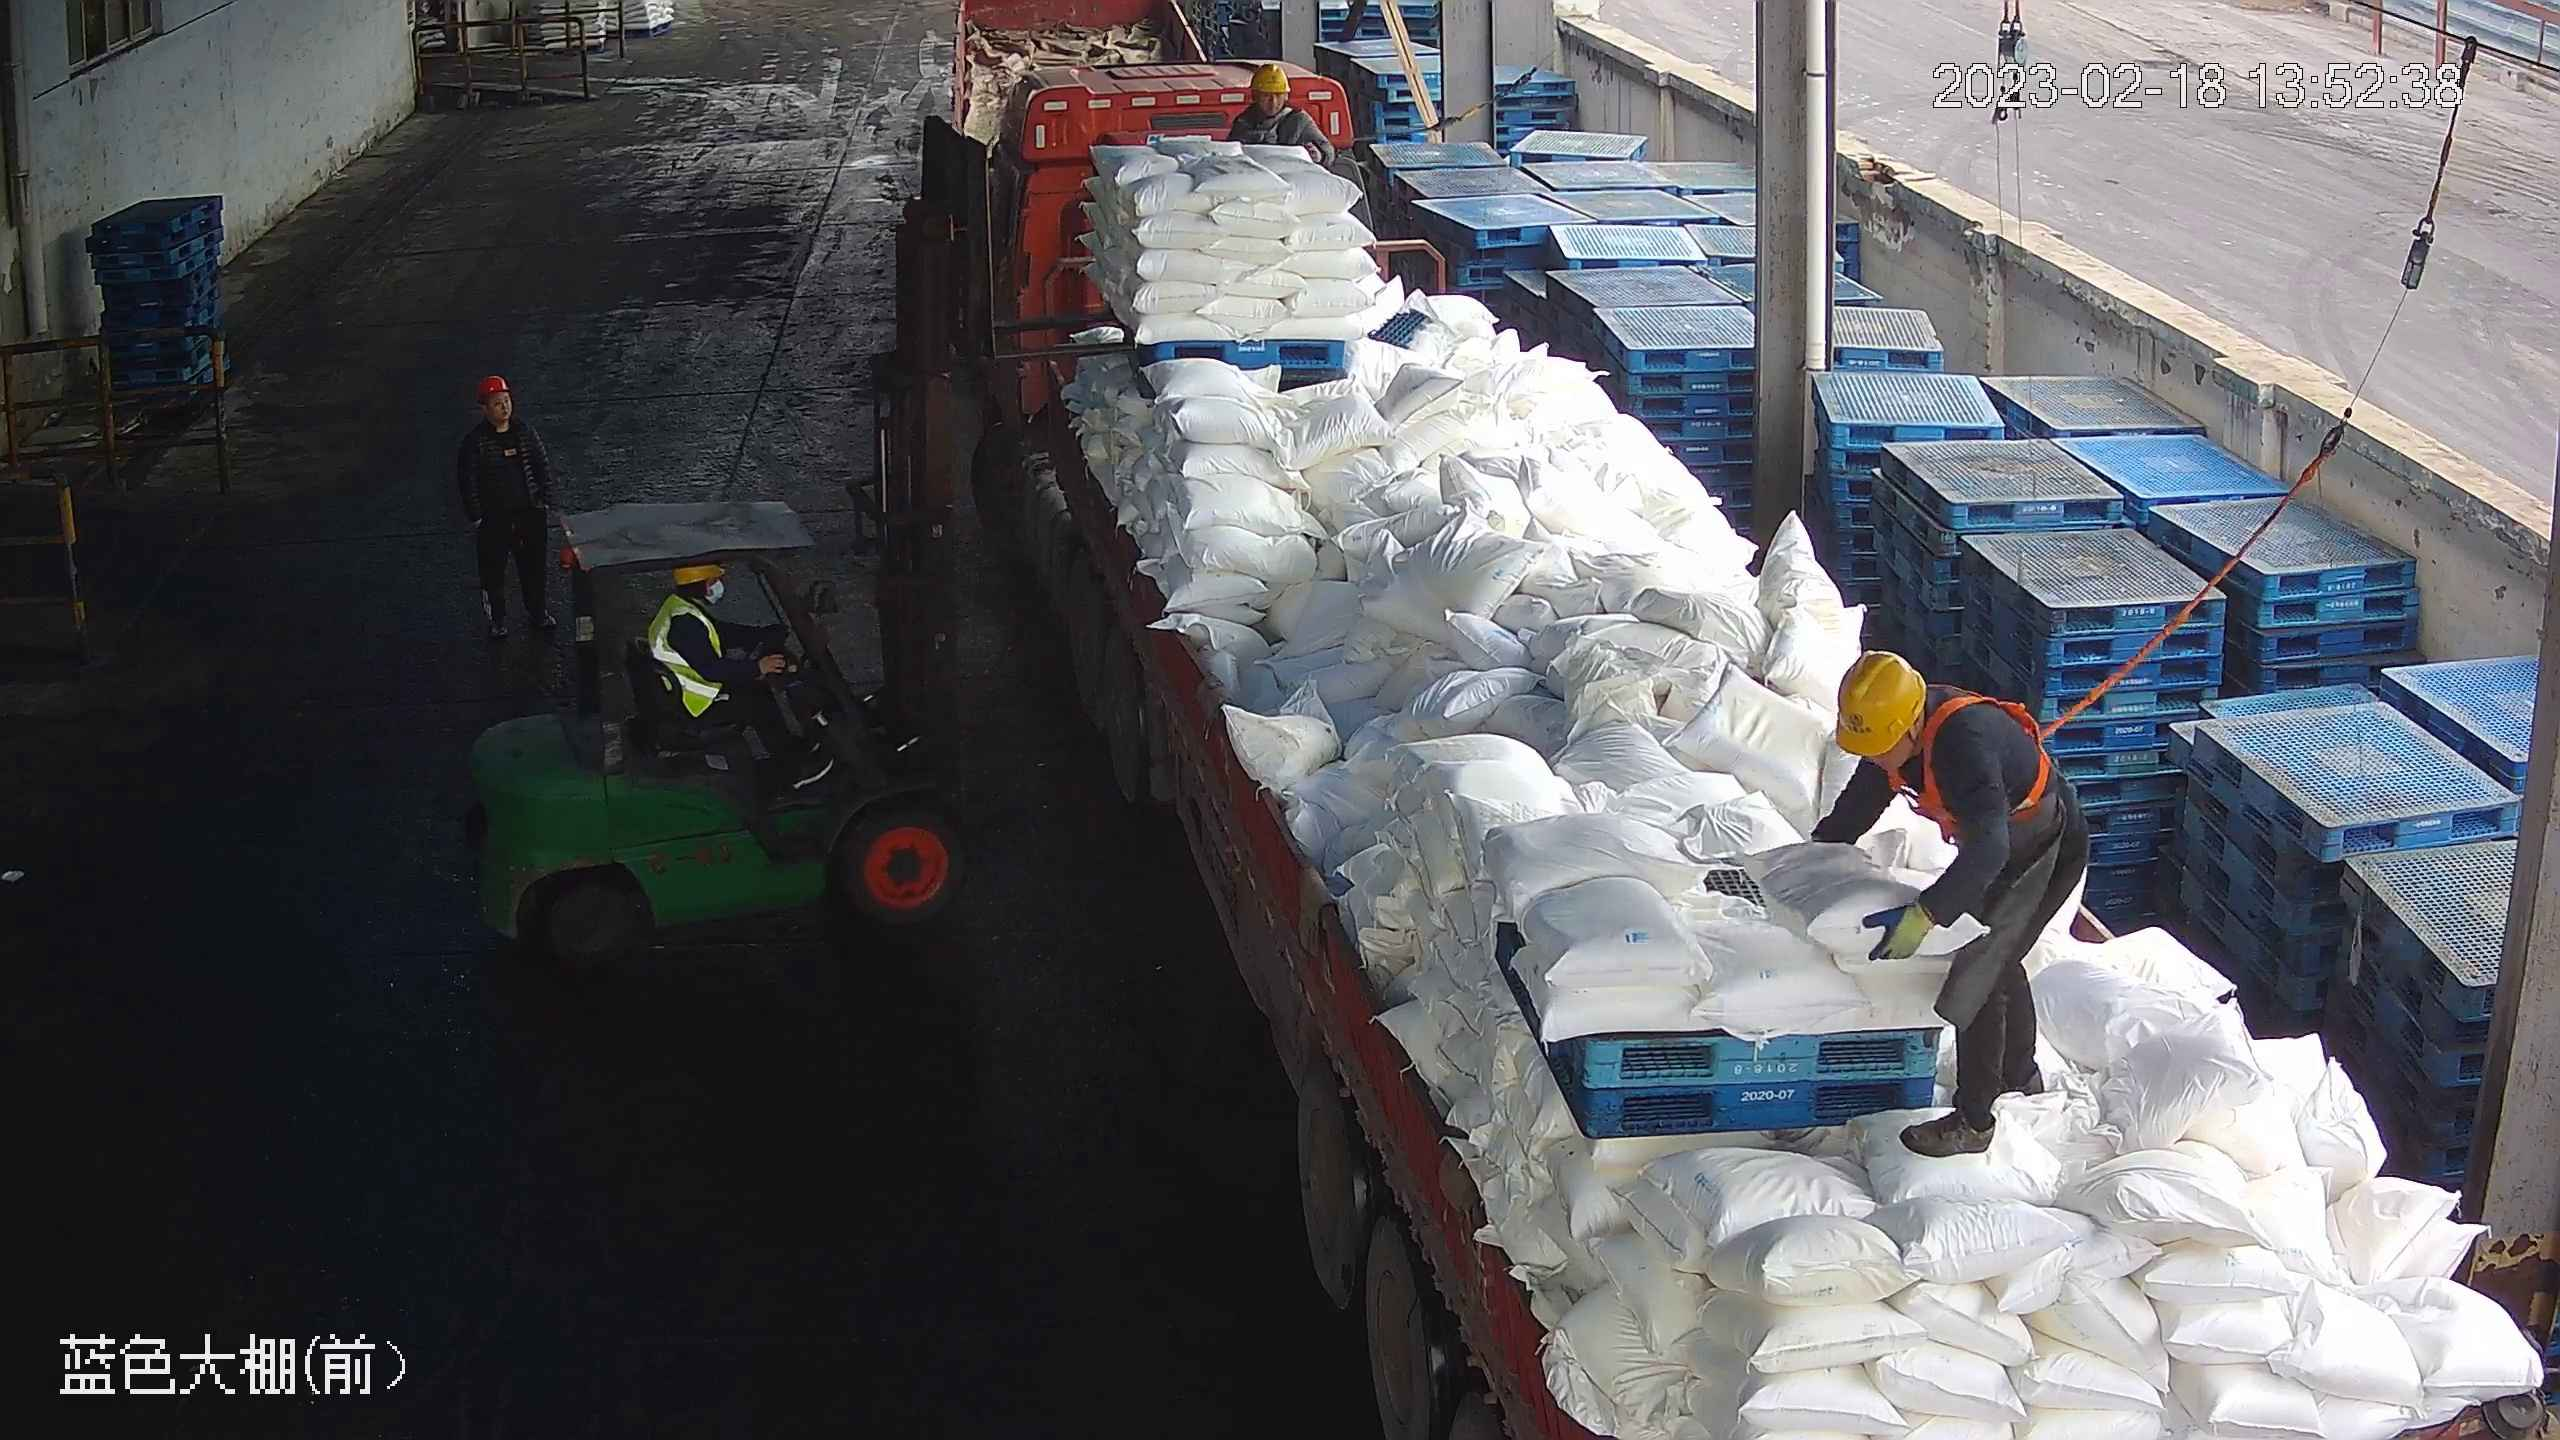belt: (1884, 683, 2064, 825), (1244, 113, 1308, 145)
head: (1830, 649, 2012, 822), (652, 564, 773, 688), (1229, 62, 1335, 145), (457, 376, 545, 474)
helmet: (1829, 649, 1929, 754), (1245, 64, 1291, 96), (476, 378, 508, 396)
people: (1812, 649, 2096, 1166), (637, 561, 849, 794), (452, 369, 569, 644)
truck: (964, 54, 2560, 1440)
